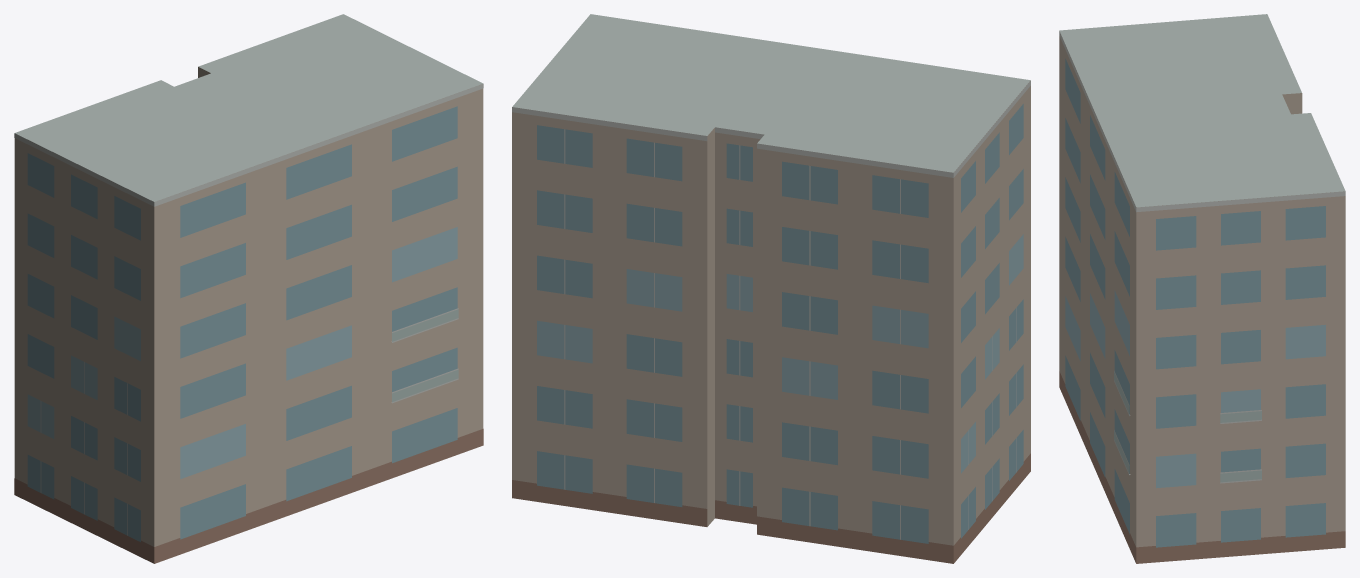
The model's file is survey-upis-32958927.glb.
3 renders of one model, left to right at view 1: azimuth 30°, elevation 25°; view 2: azimuth 150°, elevation 25°; view 3: azimuth 270°, elevation 25°, orthographic. The views are drawn at different scales.
Visible parts, largest first — view 1: survey-upis-32958927.tmp; view 2: survey-upis-32958927.tmp; view 3: survey-upis-32958927.tmp.
Part boxes in pixels (x1,y1,x2,y2): survey-upis-32958927.tmp: [14, 14, 483, 563]; survey-upis-32958927.tmp: [512, 14, 1030, 563]; survey-upis-32958927.tmp: [1059, 14, 1345, 563].
Bounding box in the file's own units: 21.31 × 18.3 × 13.34.
